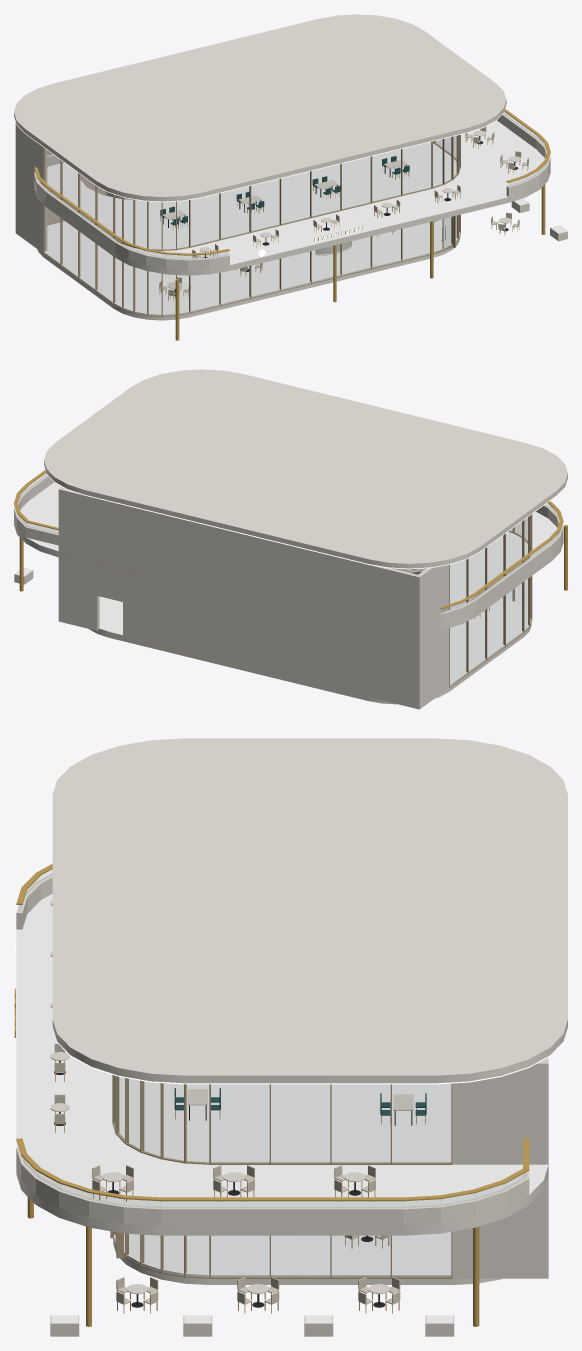
The model's file is pearl_terrace_lod0.glb.
3 renders of one model, top to bottom at view 1: azimuth 30°, elevation 25°; view 2: azimuth 150°, elevation 25°; view 3: azimuth 270°, elevation 25°, orthographic. The views are drawn at different scales.
Parts seen in each view (by area): view 1: P11_LOD0_FACADE_DETAILS_Balcony, P11_LOD0_BUILDING_EXTERIOR_BalconySlab, P11_LOD0_BUILDING_INTERIOR_GroundSlab, P11_LOD0_FURNITURE_Dining, P11_LOD0_BUILDING_EXTERIOR_Shell, P11_LOD0_GLASS_SYSTEM_L1Frame, P11_LOD0_GLASS_SYSTEM_GFFrame, P11_LOD0_FURNITURE_SideTerrace; view 2: P11_LOD0_FACADE_DETAILS_Balcony, P11_LOD0_BUILDING_EXTERIOR_Shell, P11_LOD0_BUILDING_EXTERIOR_BalconySlab, P11_LOD0_BUILDING_INTERIOR_GroundSlab, P11_LOD0_BUILDING_EXTERIOR_Roof, P11_LOD0_GLASS_SYSTEM_GFFrame, P11_LOD0_GLASS_SYSTEM_L1Frame; view 3: P11_LOD0_FACADE_DETAILS_Balcony, P11_LOD0_BUILDING_EXTERIOR_BalconySlab, P11_LOD0_BUILDING_INTERIOR_GroundSlab, P11_LOD0_BUILDING_EXTERIOR_Shell, P11_LOD0_FURNITURE_SideTerrace, P11_LOD0_FURNITURE_Dining, P11_LOD0_GLASS_SYSTEM_L1Frame, P11_LOD0_GLASS_SYSTEM_GFFrame.
Boxes of the visible parts, x1=… form: P11_LOD0_FACADE_DETAILS_Balcony: x1=14, y1=14, x2=550, y2=340; P11_LOD0_BUILDING_EXTERIOR_BalconySlab: x1=34, y1=120, x2=550, y2=275; P11_LOD0_BUILDING_INTERIOR_GroundSlab: x1=37, y1=217, x2=460, y2=320; P11_LOD0_FURNITURE_Dining: x1=159, y1=126, x2=528, y2=300; P11_LOD0_BUILDING_EXTERIOR_Shell: x1=15, y1=123, x2=105, y2=252; P11_LOD0_GLASS_SYSTEM_L1Frame: x1=43, y1=134, x2=460, y2=250; P11_LOD0_GLASS_SYSTEM_GFFrame: x1=43, y1=204, x2=460, y2=316; P11_LOD0_FURNITURE_SideTerrace: x1=491, y1=198, x2=567, y2=241; P11_LOD0_FACADE_DETAILS_Balcony: x1=14, y1=369, x2=567, y2=624; P11_LOD0_BUILDING_EXTERIOR_Shell: x1=58, y1=487, x2=449, y2=709; P11_LOD0_BUILDING_EXTERIOR_BalconySlab: x1=14, y1=482, x2=563, y2=630; P11_LOD0_BUILDING_INTERIOR_GroundSlab: x1=89, y1=596, x2=531, y2=704; P11_LOD0_BUILDING_EXTERIOR_Roof: x1=109, y1=501, x2=426, y2=572; P11_LOD0_GLASS_SYSTEM_GFFrame: x1=449, y1=576, x2=532, y2=687; P11_LOD0_GLASS_SYSTEM_L1Frame: x1=449, y1=514, x2=532, y2=609; P11_LOD0_FACADE_DETAILS_Balcony: x1=16, y1=738, x2=567, y2=1326; P11_LOD0_BUILDING_EXTERIOR_BalconySlab: x1=16, y1=894, x2=548, y2=1235; P11_LOD0_BUILDING_INTERIOR_GroundSlab: x1=113, y1=1232, x2=502, y2=1284; P11_LOD0_BUILDING_EXTERIOR_Shell: x1=452, y1=1057, x2=548, y2=1278; P11_LOD0_FURNITURE_SideTerrace: x1=50, y1=1277, x2=454, y2=1336; P11_LOD0_FURNITURE_Dining: x1=50, y1=900, x2=426, y2=1248; P11_LOD0_GLASS_SYSTEM_L1Frame: x1=112, y1=1075, x2=452, y2=1164; P11_LOD0_GLASS_SYSTEM_GFFrame: x1=110, y1=1231, x2=452, y2=1278.
Size of the model in its own units: 36 by 10.95 by 22.9.
